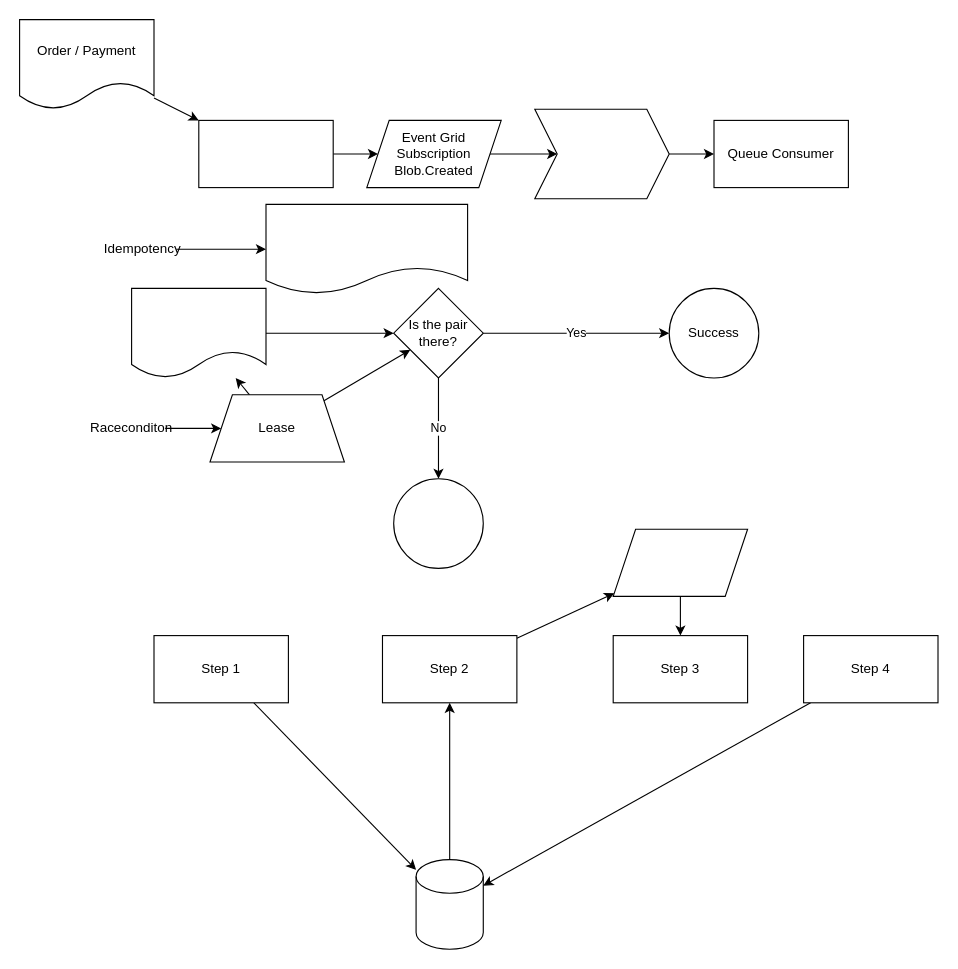
This 958x969 diagram has some shape labels left out. Each missing label, with the box of its shape:
Blob Service: (198, 119, 333, 188)
Nothing: (393, 478, 483, 568)
Order 1 / Payment 1: (130, 287, 266, 378)
Queue: (534, 108, 669, 199)
Tags status = pending | complete: (265, 203, 468, 294)
